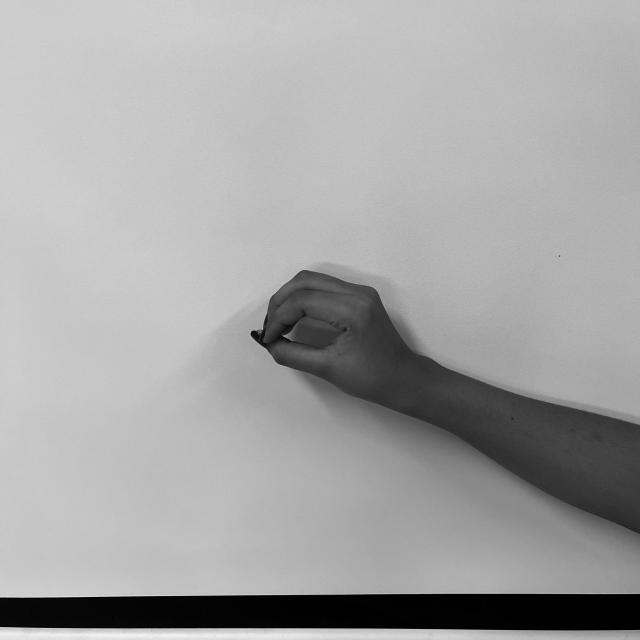Letra O: (247, 262, 418, 406)
